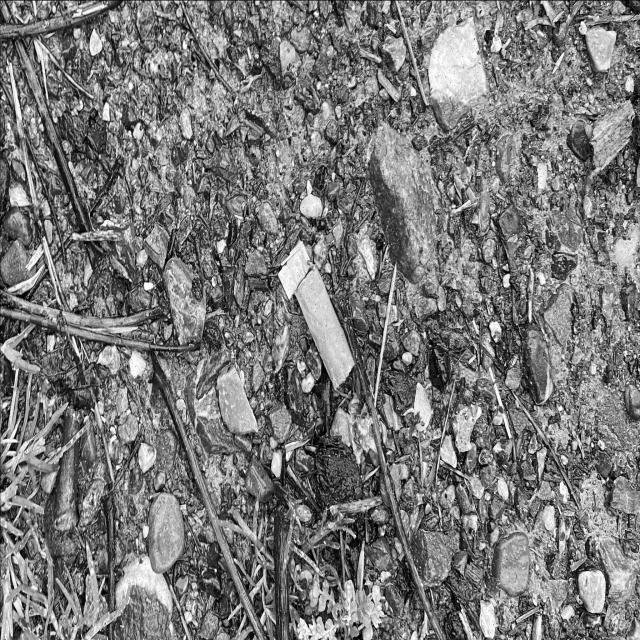other waste: (276, 238, 356, 393)
